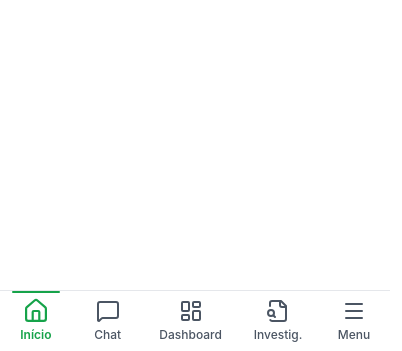
Test case: MobileNavV2 › Menu Toggle › opens menu when menu button clicked
The width and height of the screenshot is (402, 351).
Click the button with aria-label "menu do usuário" at {"x": 354, "y": 321}, box [322,291,386,350]
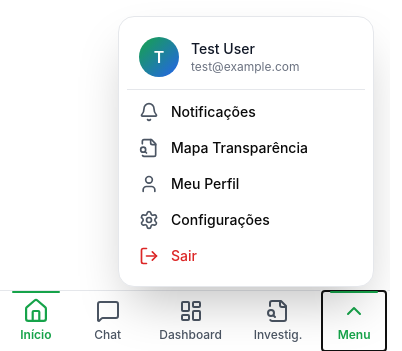
Check: the text "Notificações" is shown, box [171,102,256,122]
Check: the text "Meu Perfil" is shown, box [171,174,239,194]
